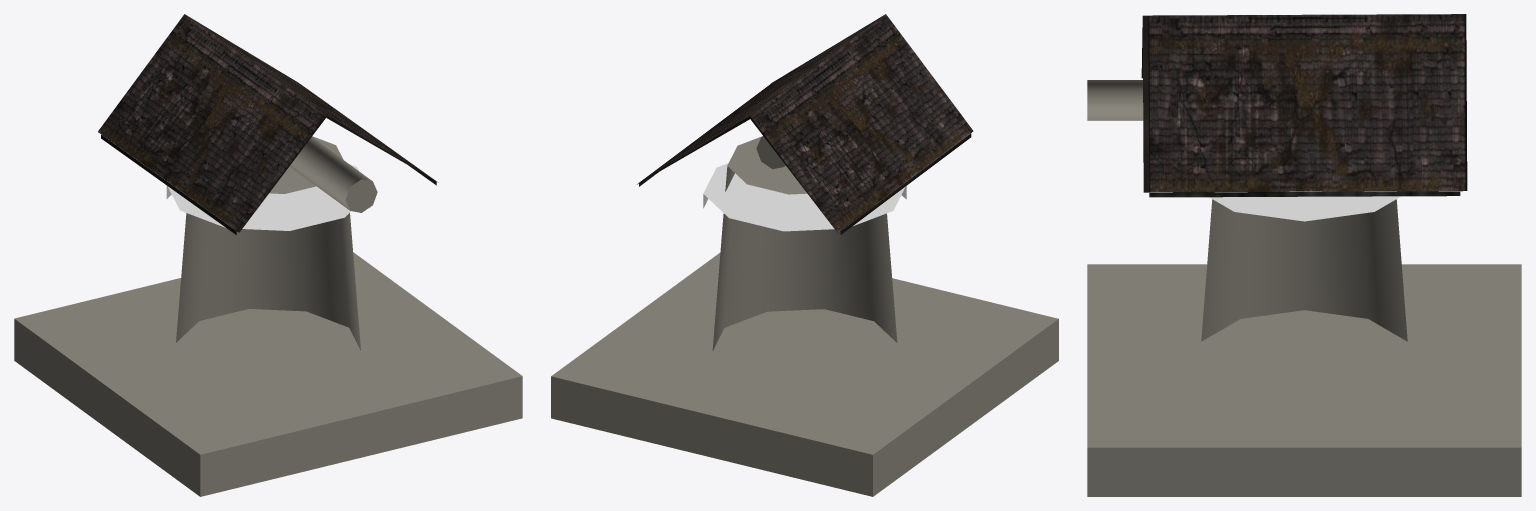
3 renders of one model, left to right at view 1: azimuth 30°, elevation 25°; view 2: azimuth 150°, elevation 25°; view 3: azimuth 270°, elevation 25°, orthographic. The views are drawn at different scales.
Parts seen in each view (by area): view 1: dweller_building_turret; view 2: dweller_building_turret; view 3: dweller_building_turret.
Boxes of the visible parts, left/top/right/bottom form: dweller_building_turret: left=14, top=14, right=522, bottom=496; dweller_building_turret: left=551, top=14, right=1058, bottom=496; dweller_building_turret: left=1087, top=14, right=1521, bottom=496.
Size of the model in its own units: 2 by 1.95 by 2.
3 materials, 1 textured.
